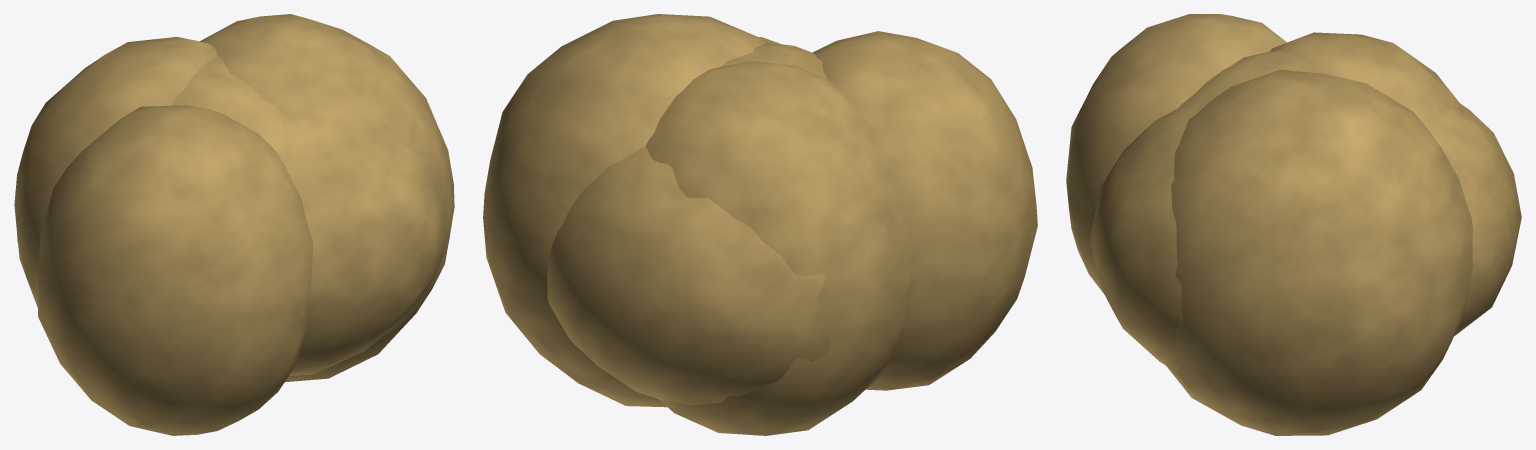
File: pv_hromada_zlato.glb
3 renders of one model, left to right at view 1: azimuth 30°, elevation 25°; view 2: azimuth 150°, elevation 25°; view 3: azimuth 270°, elevation 25°, orthographic. The views are drawn at different scales.
Visible parts, largest first — view 1: dum; view 2: dum; view 3: dum.
Part boxes in pixels (left/top/right/bottom): dum: left=14, top=14, right=454, bottom=435; dum: left=483, top=14, right=1037, bottom=435; dum: left=1066, top=14, right=1521, bottom=435.
Size of the model in its own units: 9.04 by 6.88 by 8.39.
1 material, 1 textured.
